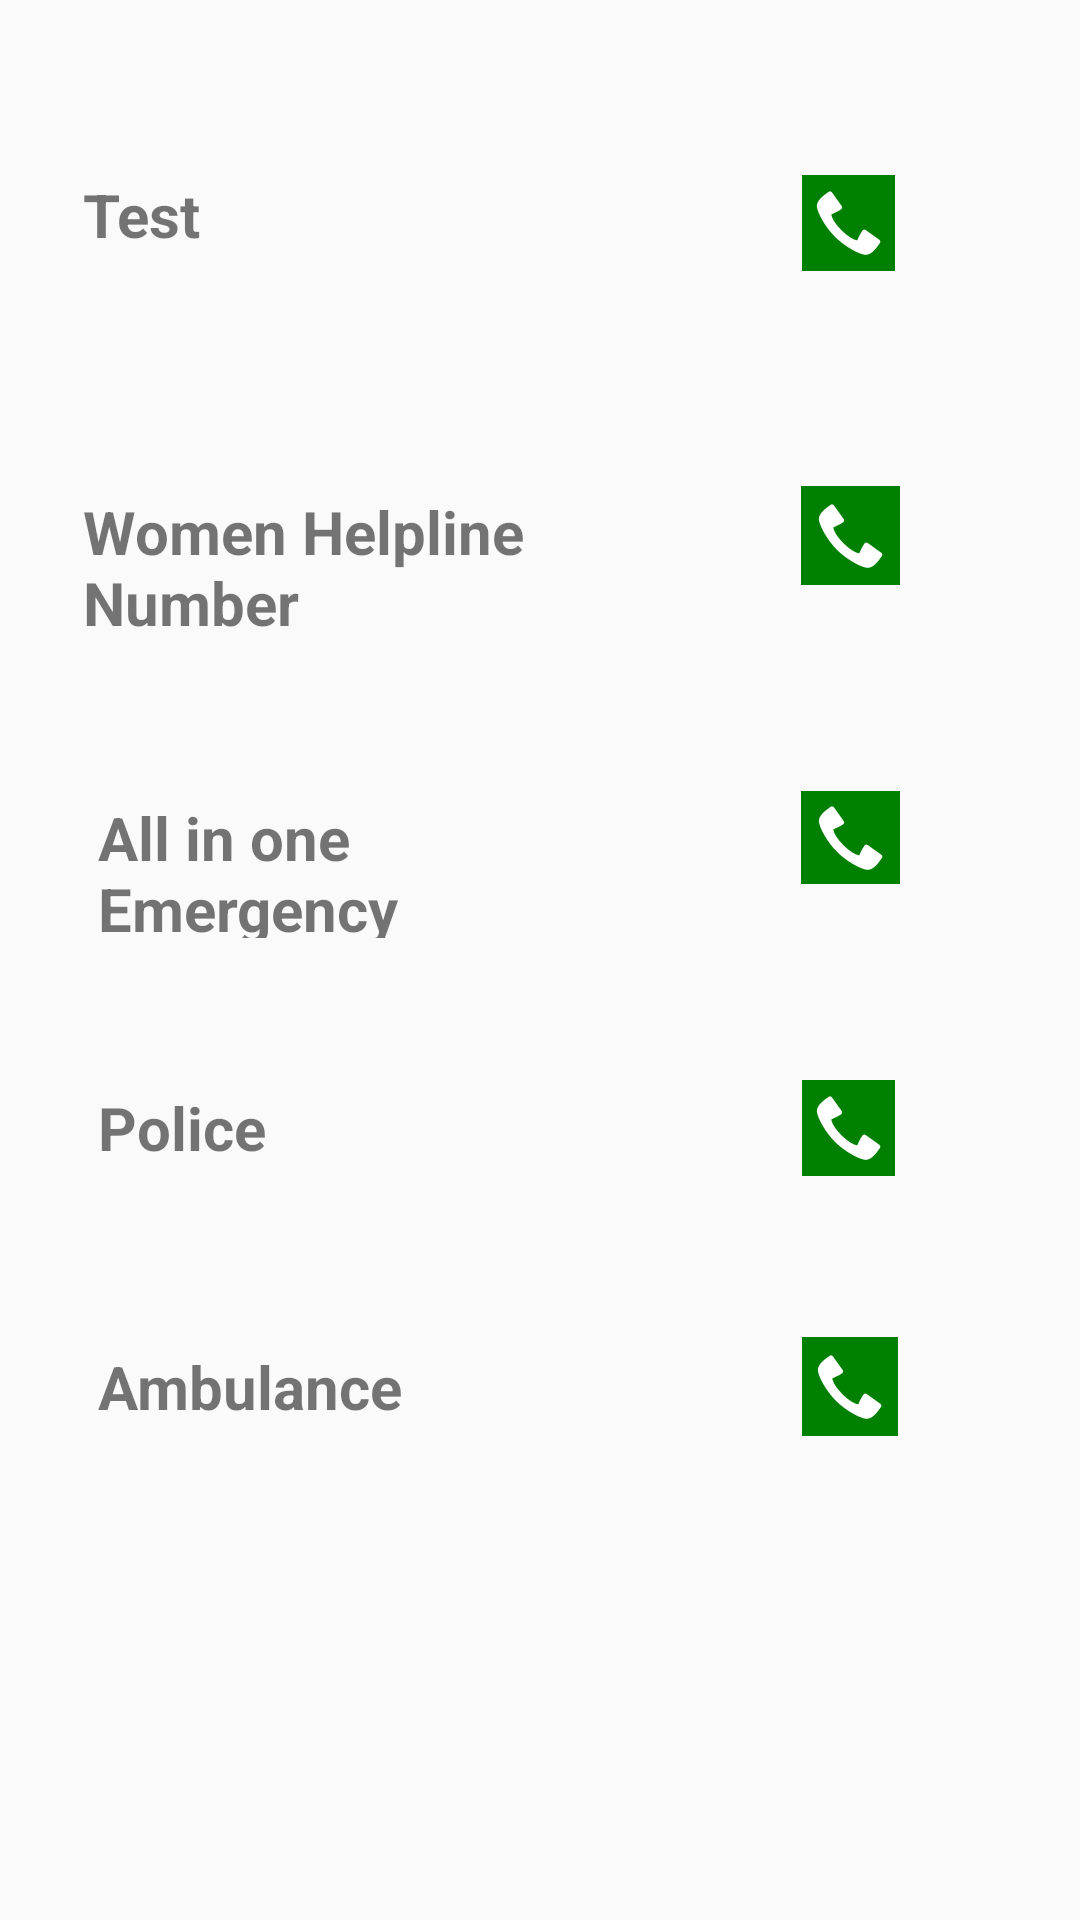

Screen size 1080*1920. Icon name, then its center in pixels as (x=x, y=y):
phone call: (x=848, y=223), (x=850, y=535), (x=850, y=837), (x=848, y=1128), (x=850, y=1386)
